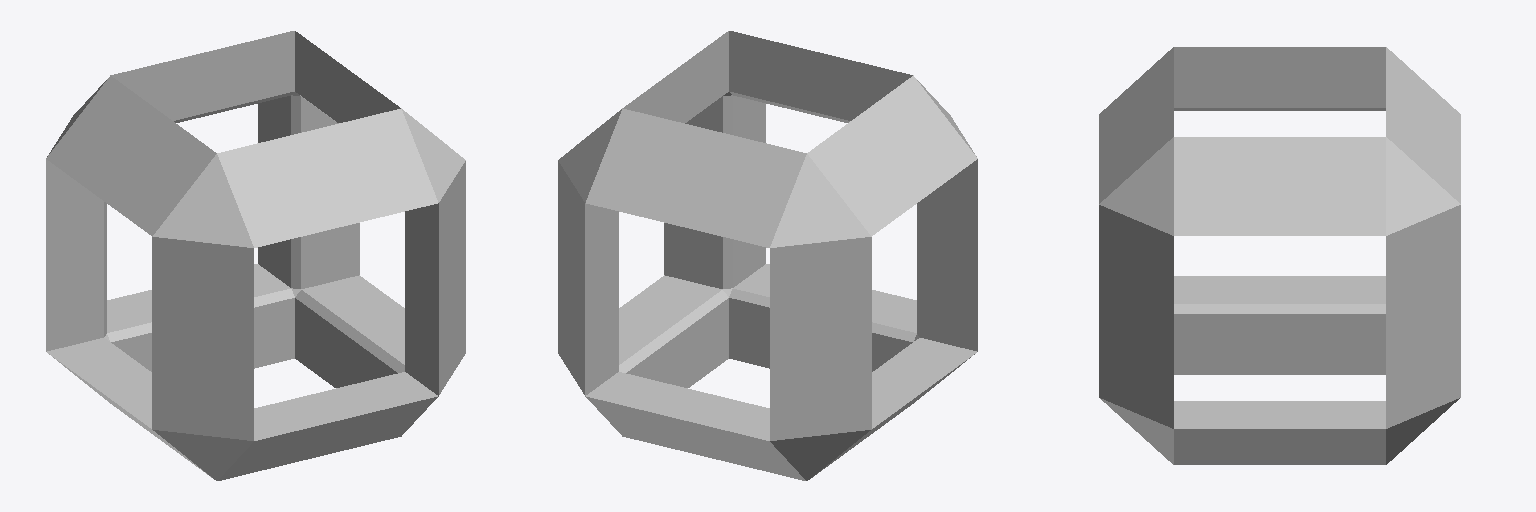
File: Ammo.obj
3 views of the same model, side by side, from view 1: azimuth 30°, elevation 25°; view 2: azimuth 150°, elevation 25°; view 3: azimuth 270°, elevation 25° (orthographic).
Parts seen in each view (by area): view 1: Cube; view 2: Cube; view 3: Cube.
Boxes of the visible parts, box(x1,y1,x2,y2) form: Cube: box(46, 31, 465, 480); Cube: box(558, 31, 977, 480); Cube: box(1099, 47, 1460, 464).
Size of the model in its own units: 2 by 2 by 2.